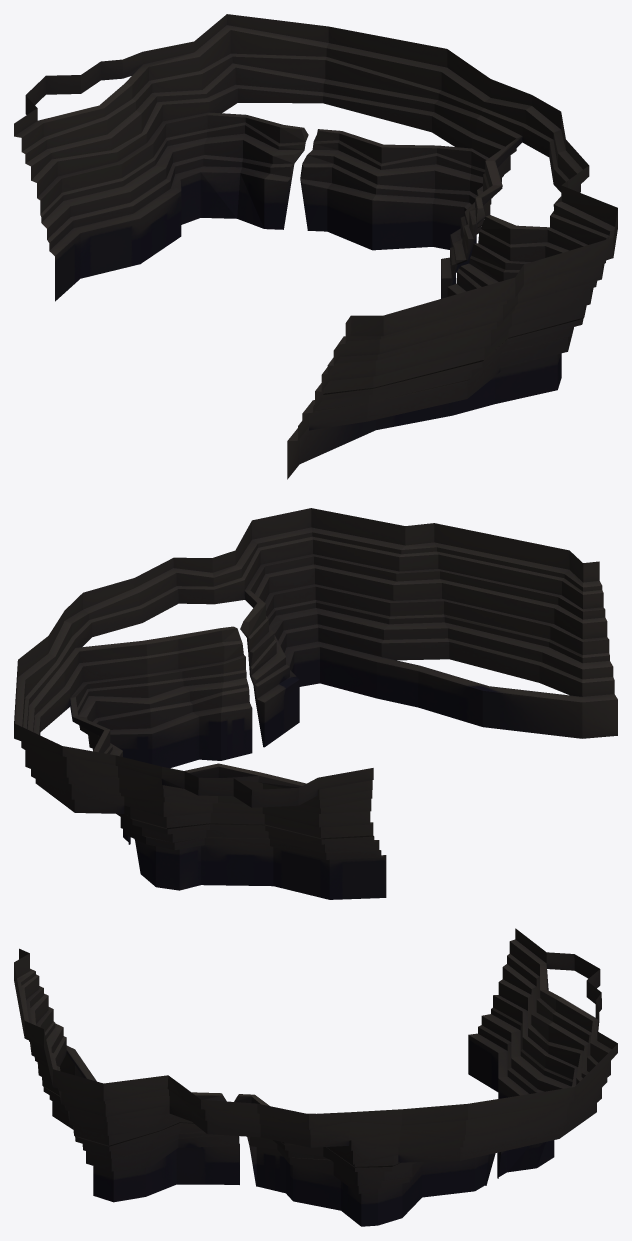
The model's file is Wall_01.FBX.
3 views of the same model, one above another, from view 1: azimuth 30°, elevation 25°; view 2: azimuth 150°, elevation 25°; view 3: azimuth 270°, elevation 25° (orthographic). The views are drawn at different scales.
Parts seen in each view (by area): view 1: Wall_01; view 2: Wall_01; view 3: Wall_01.
Part boxes in pixels (x1=…): Wall_01: x1=14, y1=14, x2=617, y2=479; Wall_01: x1=14, y1=508, x2=617, y2=899; Wall_01: x1=14, y1=928, x2=617, y2=1226.
Bounding box in the file's own units: 24.09 × 8.75 × 33.91.
